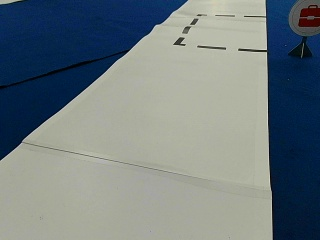company: (289, 1, 319, 35)
